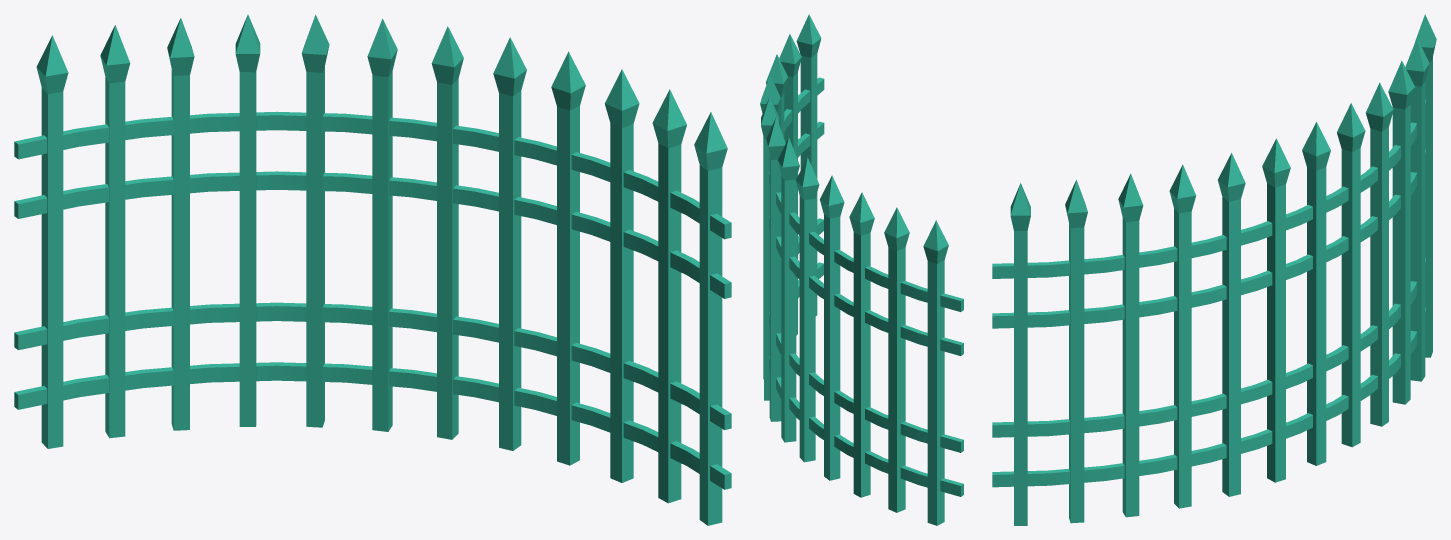
File: ironFenceCurve.dae
3 views of the same model, side by side, from view 1: azimuth 30°, elevation 25°; view 2: azimuth 150°, elevation 25°; view 3: azimuth 270°, elevation 25° (orthographic). The views are drawn at different scales.
Parts seen in each view (by area): view 1: ironFenceCurve; view 2: ironFenceCurve; view 3: ironFenceCurve.
Part boxes in pixels (x1=…): ironFenceCurve: x1=14, y1=14, x2=731, y2=525; ironFenceCurve: x1=760, y1=14, x2=963, y2=525; ironFenceCurve: x1=992, y1=14, x2=1436, y2=525.
Size of the model in its own units: 0.9725 by 0.8239 by 0.9746.
